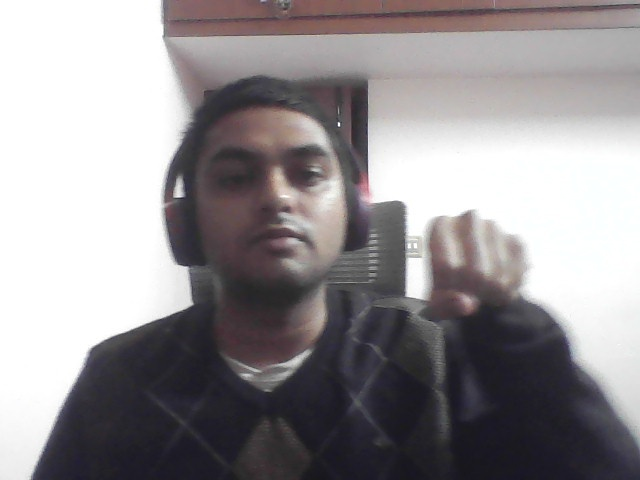Yes: (406, 177, 584, 405)
